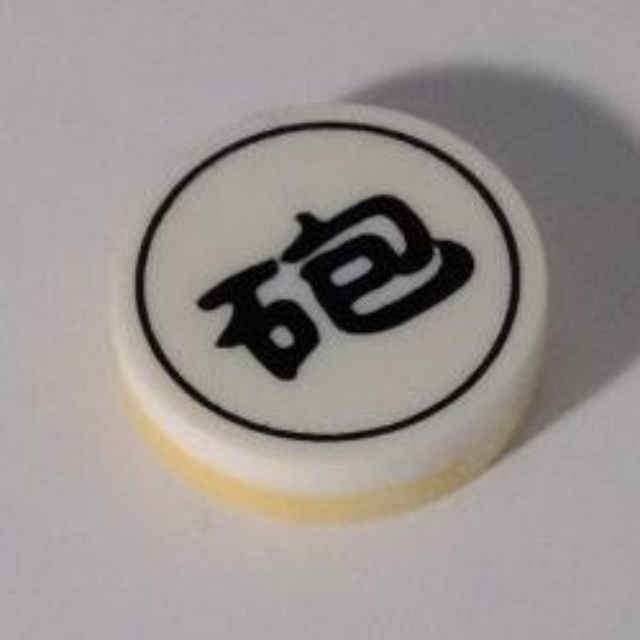black_phao: (95, 97, 560, 529)
